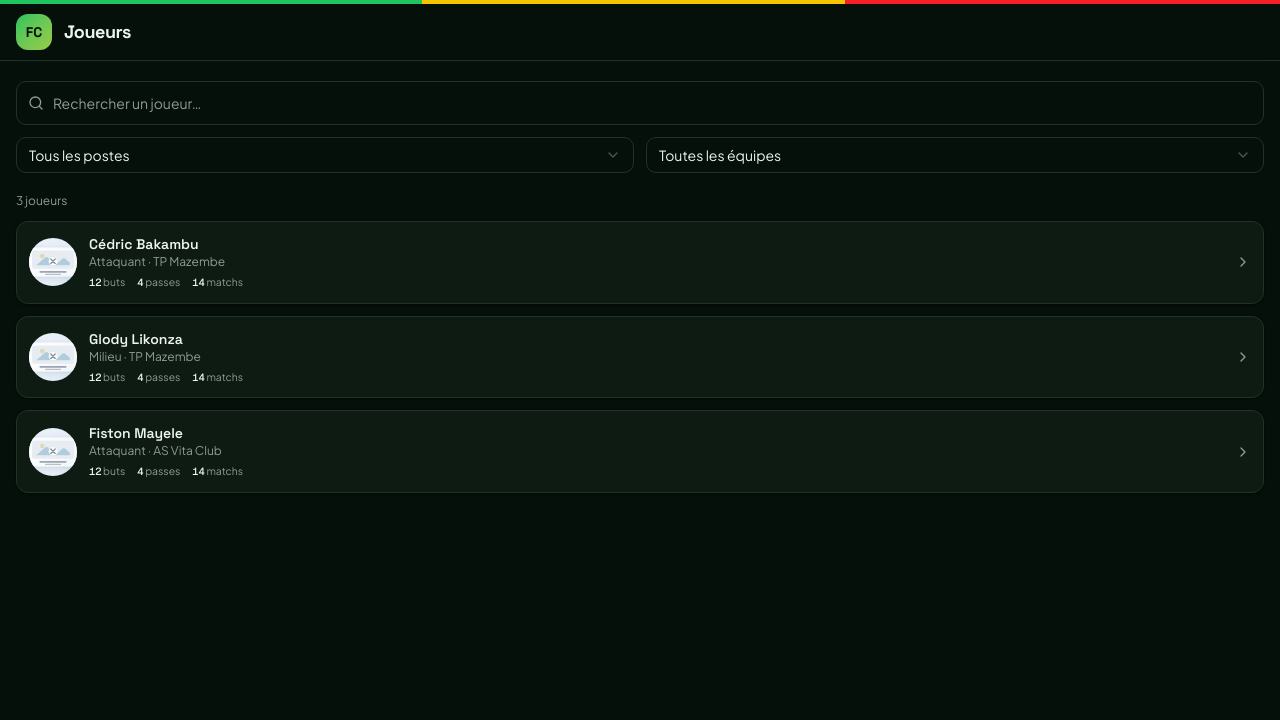
Test: Players page › filters players by position
Expected: the text "Cédric Bakambu" is shown, [89,235,199,253]
Click the dropdown with test id "players.position_select". click: x=79, y=155
box: [16,137,634,173]
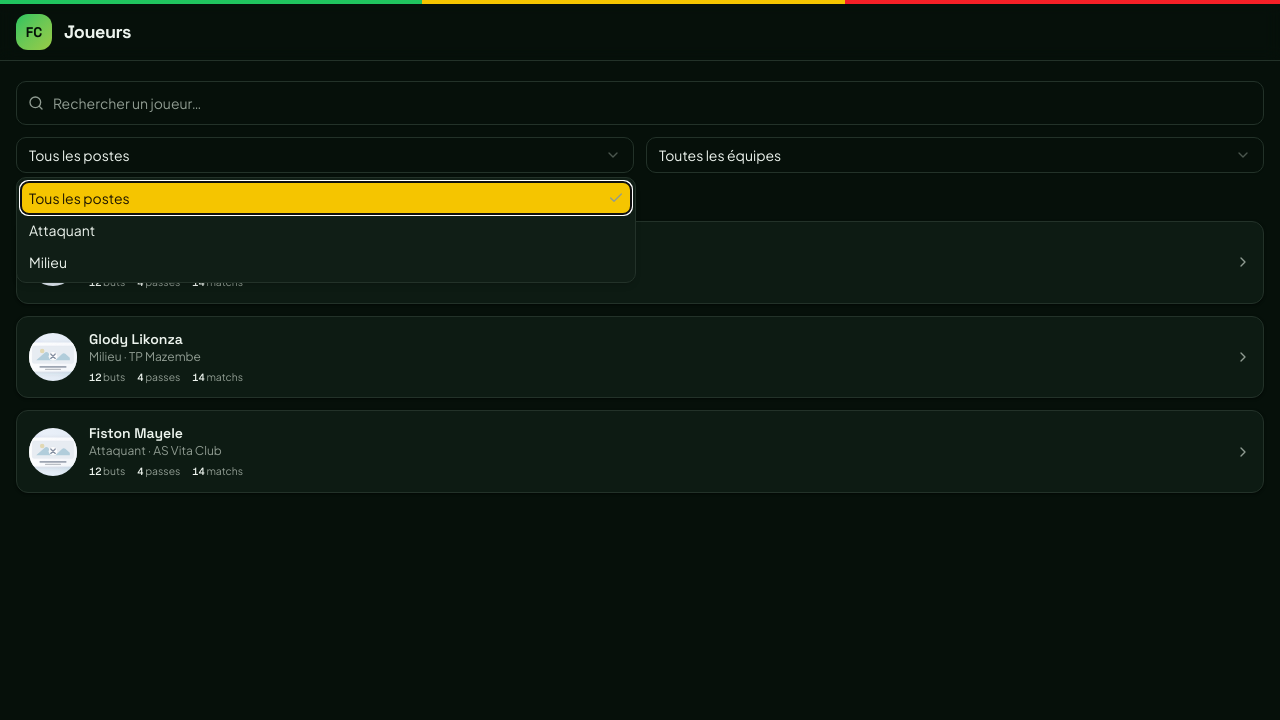
Click the option "Milieu". click: x=48, y=262
box: [29,253,67,271]
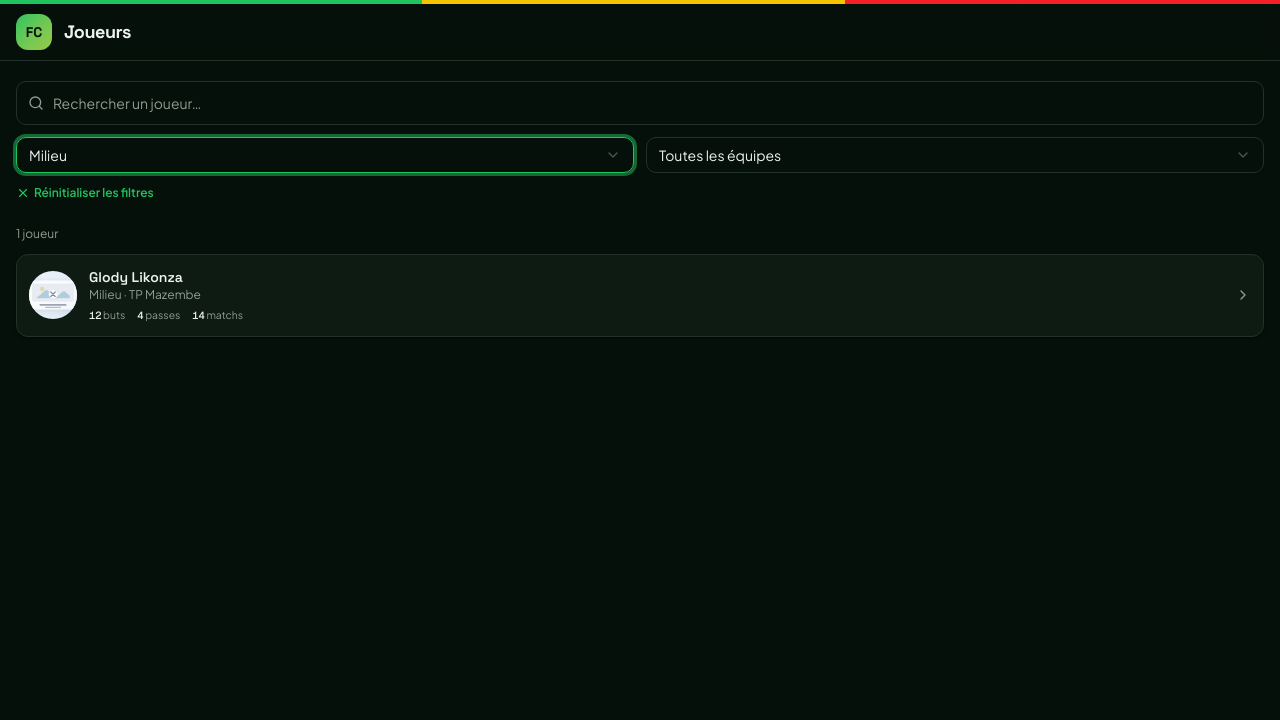
Expected: the text "Glody Likonza" is shown, [89,268,183,286]
Result: the link "Cédric Bakambu" is gone
